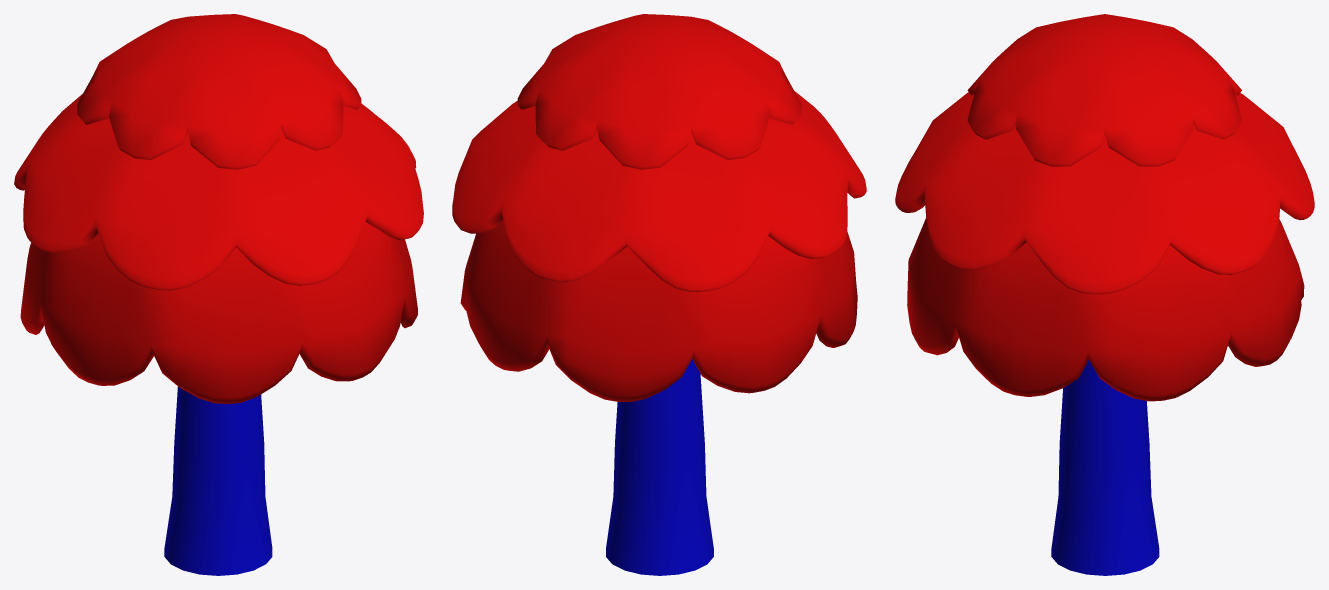
File: SM_HealthyOakTree_01_LOD0.fbx
3 renders of one model, left to right at view 1: azimuth 30°, elevation 25°; view 2: azimuth 150°, elevation 25°; view 3: azimuth 270°, elevation 25°, orthographic.
Parts seen in each view (by area): view 1: OakTree_LOD0; view 2: OakTree_LOD0; view 3: OakTree_LOD0.
Boxes of the visible parts, <box> form: OakTree_LOD0: <box>14,14,423,575</box>; OakTree_LOD0: <box>452,14,866,575</box>; OakTree_LOD0: <box>895,14,1314,575</box>.
Bounding box in the file's own units: 579 × 797 × 579.
